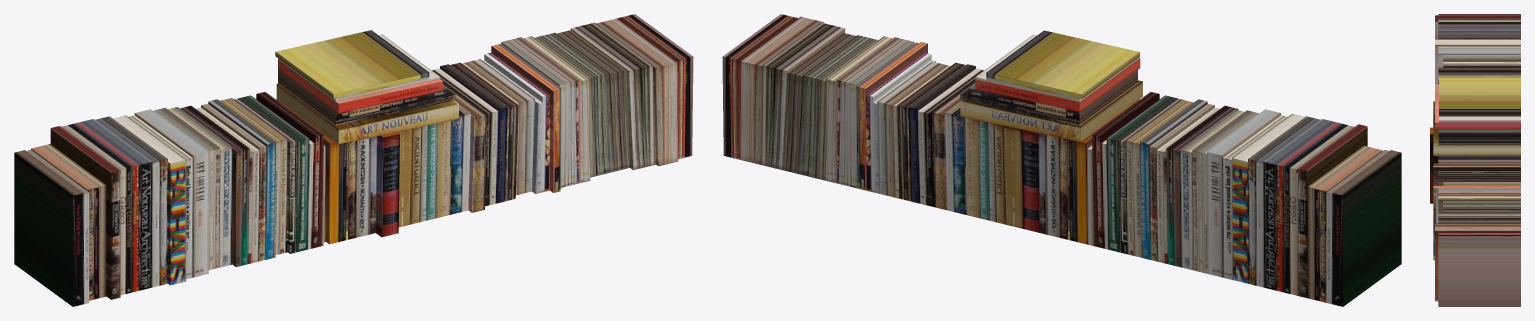
File: bookrow1.gltf
3 views of the same model, side by side, from view 1: azimuth 30°, elevation 25°; view 2: azimuth 150°, elevation 25°; view 3: azimuth 270°, elevation 25° (orthographic). The views are drawn at different scales.
Parts seen in each view (by area): view 1: books1; view 2: books1; view 3: books1.
Boxes of the visible parts, x1,y1,x2,y2 form: books1: [14, 14, 693, 306]; books1: [722, 14, 1401, 306]; books1: [1430, 14, 1520, 306].
Bounding box in the file's own units: 1.53 × 0.3517 × 0.275.
Materials: 1 (1 with a texture image).
